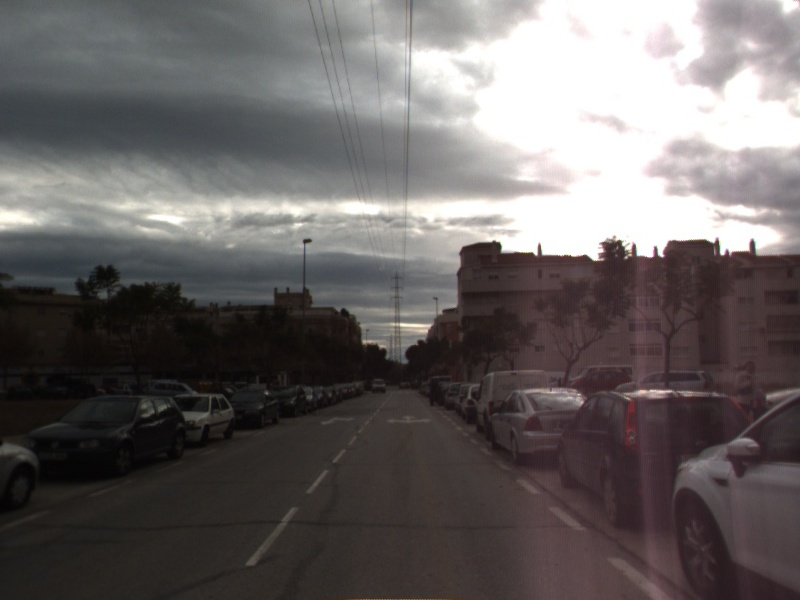STRAIGHT_LEFT_RIGHT: (384, 413, 434, 426)
